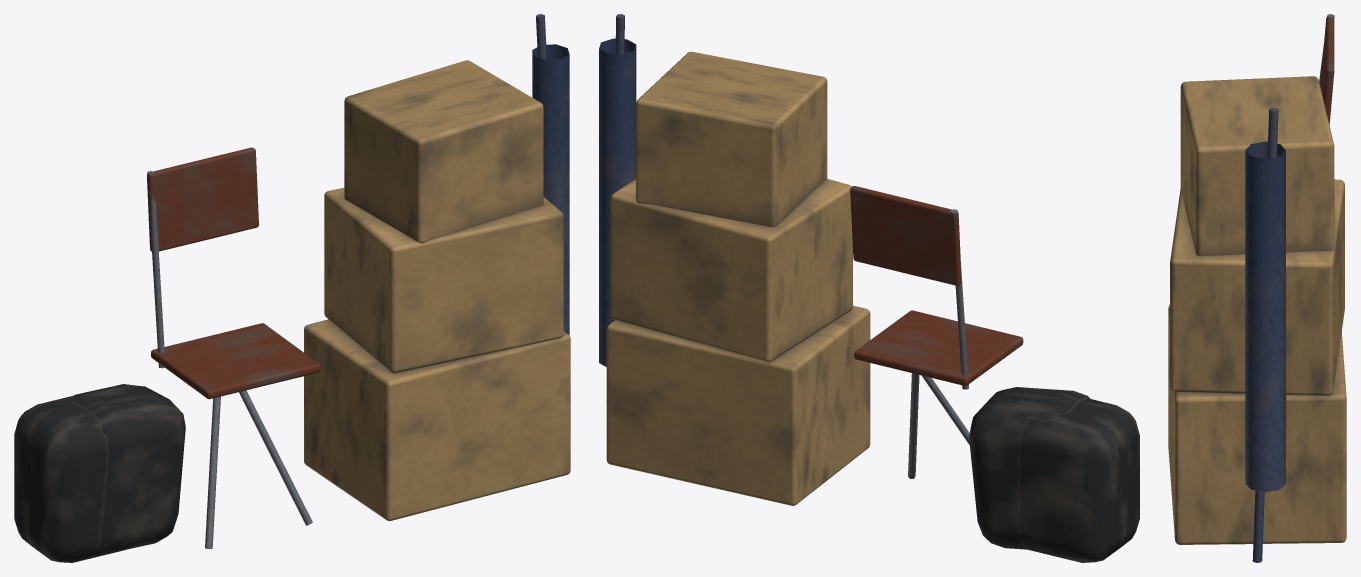
The model's file is fas_rupiecie_b.glb.
3 views of the same model, side by side, from view 1: azimuth 30°, elevation 25°; view 2: azimuth 150°, elevation 25°; view 3: azimuth 270°, elevation 25° (orthographic). The views are drawn at different scales.
Parts seen in each view (by area): view 1: Rupiecie; view 2: Rupiecie; view 3: Rupiecie.
Part boxes in pixels (box(x1,y1,x2,y2)): Rupiecie: box(14, 14, 570, 562); Rupiecie: box(599, 14, 1139, 562); Rupiecie: box(1168, 14, 1346, 562).
Bounding box in the file's own units: 1.59 × 1.21 × 0.4359.
Materials: 1 (1 with a texture image).
